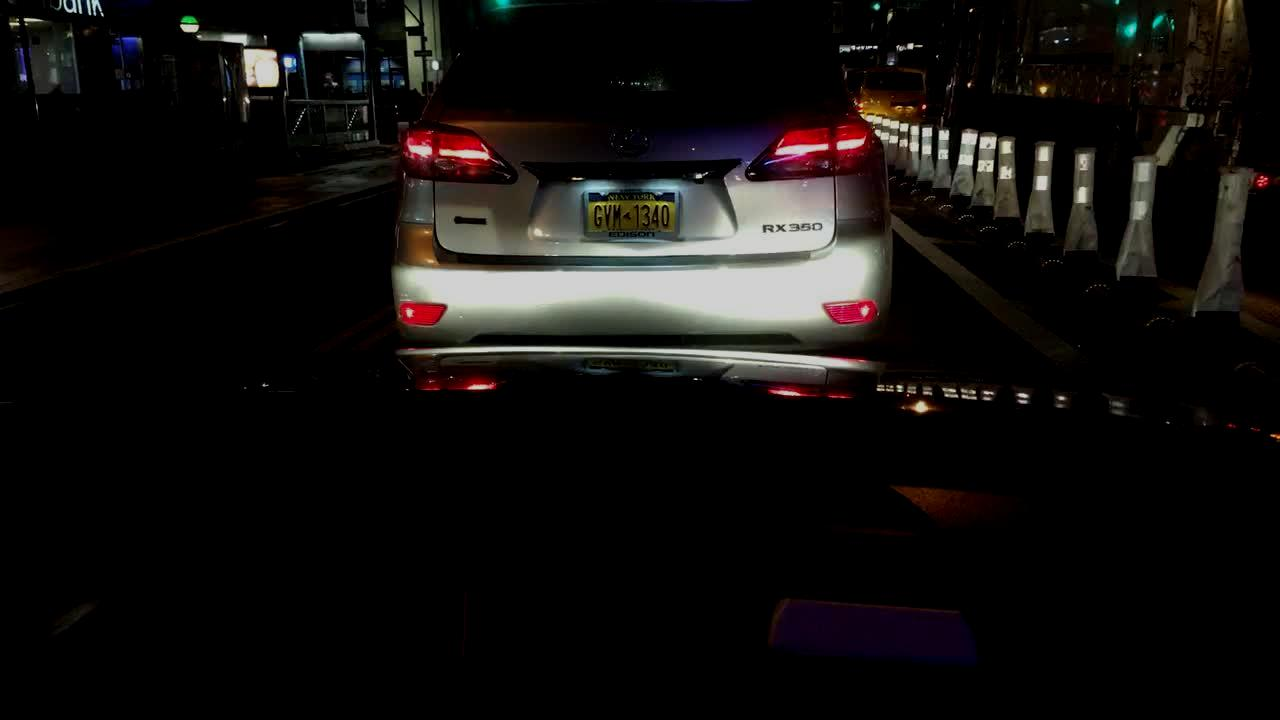lexus: (597, 117, 660, 166)
